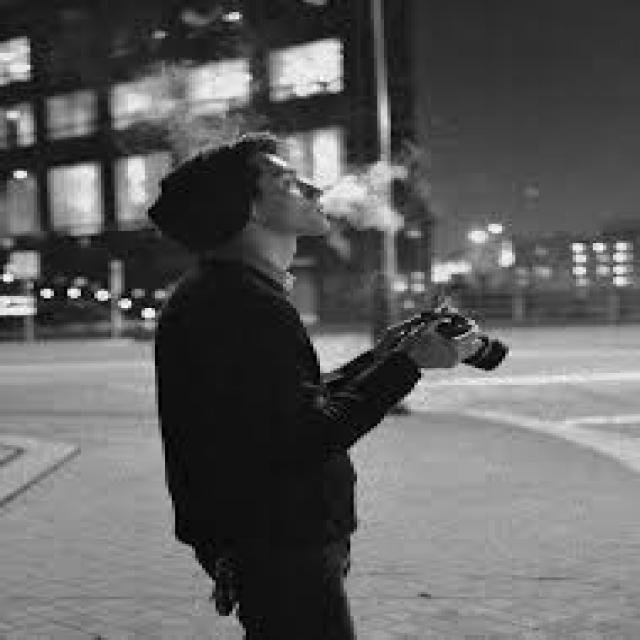Smoke: (320, 142, 418, 236)
